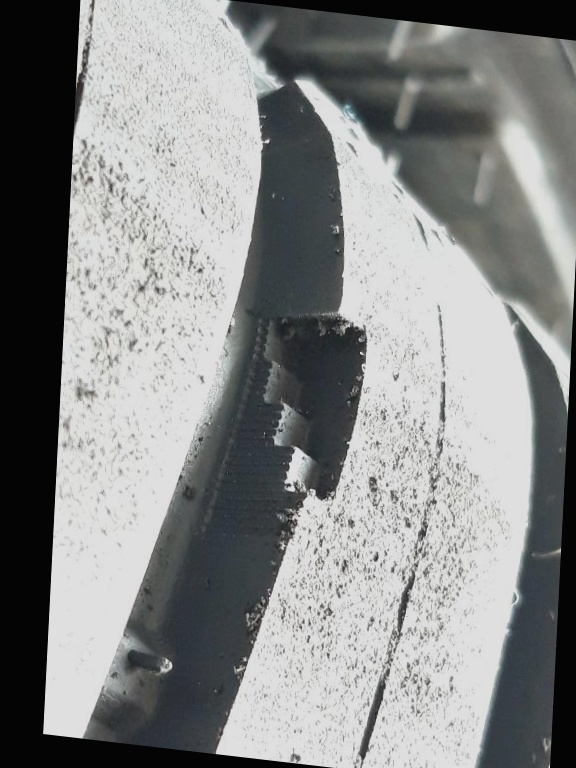temoin:95: (204, 282, 385, 563)
